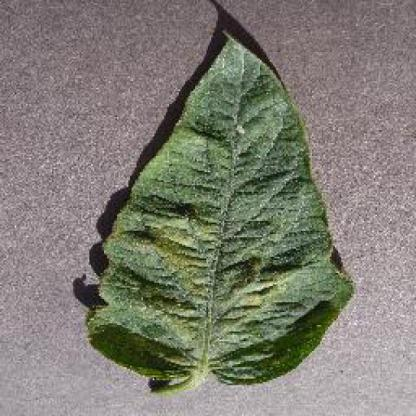Tomato_Spider_Mites: (86, 31, 356, 384)
